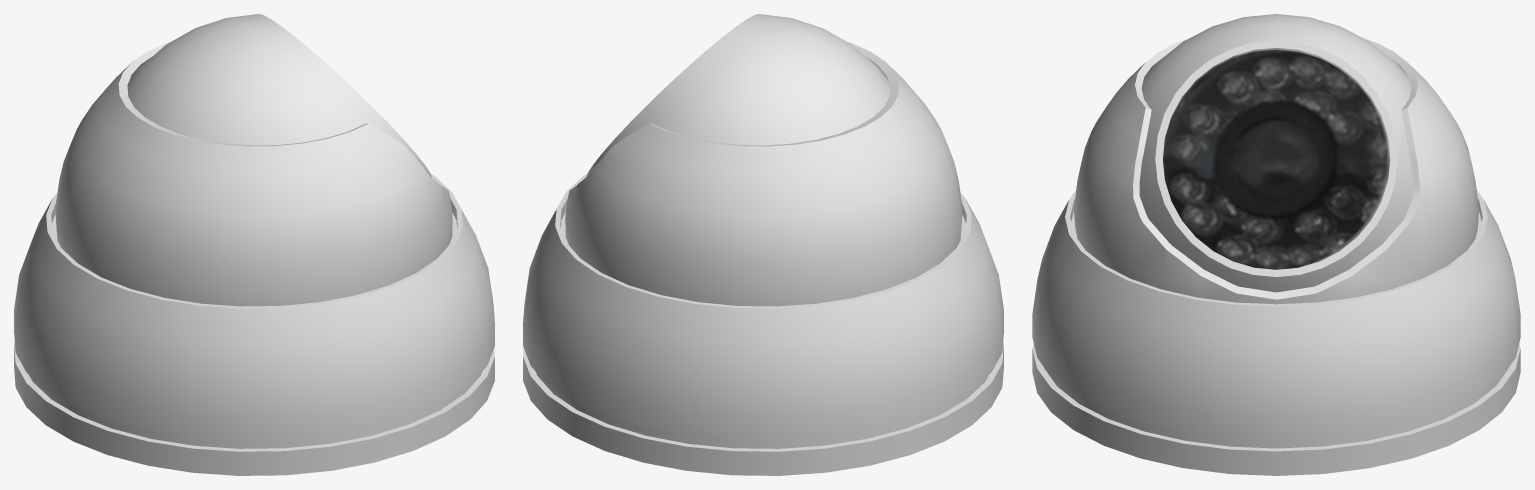
The model's file is dome_camera_free.glb.
3 renders of one model, left to right at view 1: azimuth 30°, elevation 25°; view 2: azimuth 150°, elevation 25°; view 3: azimuth 270°, elevation 25°, orthographic.
Visible parts, largest first — view 1: Object_7; view 2: Object_7; view 3: Object_7, Object_9.
Boxes of the visible parts, bbox=[...] form: Object_7: bbox=[14, 14, 494, 475]; Object_7: bbox=[523, 14, 1003, 475]; Object_7: bbox=[1032, 14, 1520, 475]; Object_9: bbox=[1163, 49, 1389, 269].
Size of the model in its own units: 0.1217 by 0.0954 by 0.1217.
3 materials, 1 textured.
